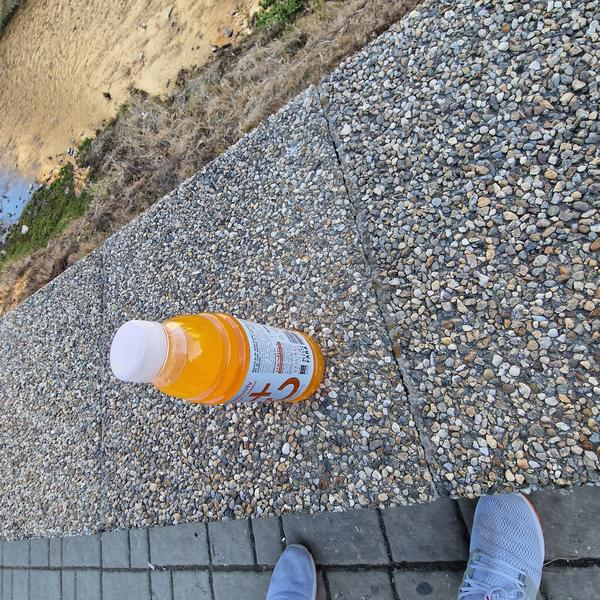plastic_bottle: (102, 300, 332, 420)
